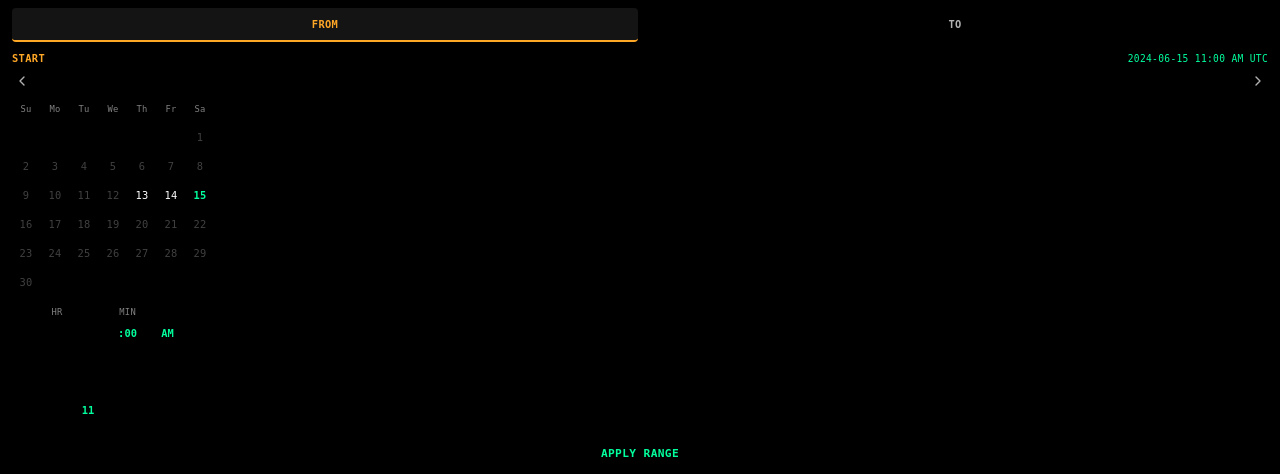
Test: CustomRangePicker — rendering › clicking FROM after TO switches back to START picker
Click the text "TO".
click(955, 24)  # box [948,18,962,30]
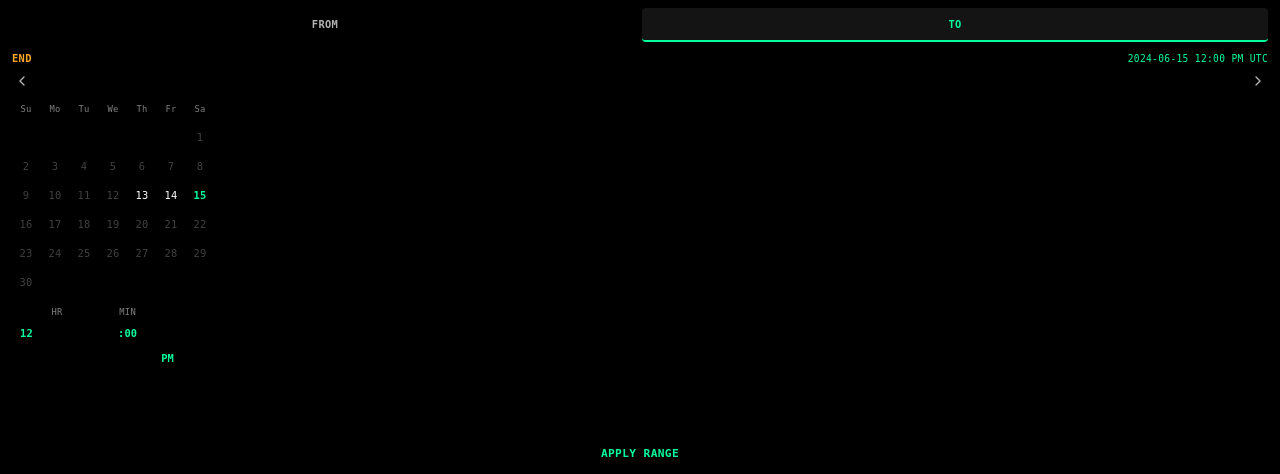
Click the text "FROM".
click(325, 24)  # box [312,18,338,30]
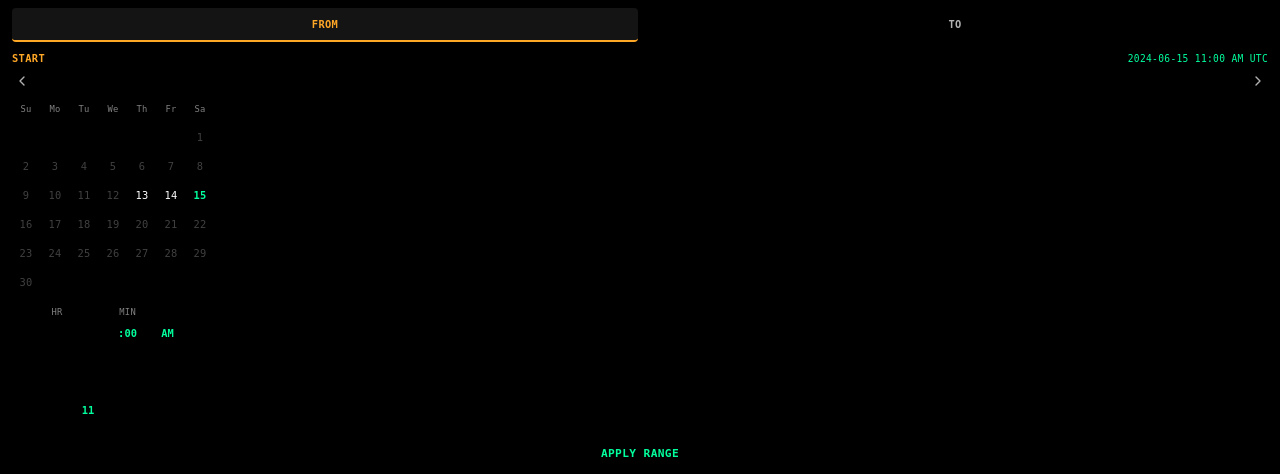
Expected: the text "START" is shown, [12,50,45,67]
